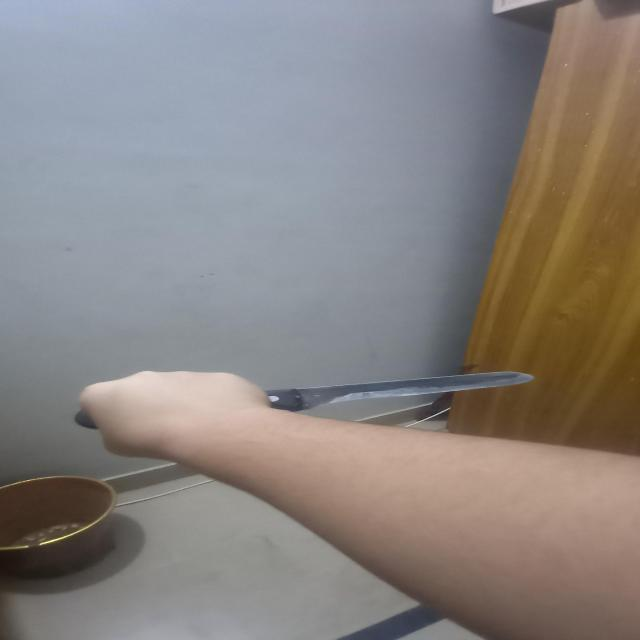weapon: (49, 369, 547, 426)
